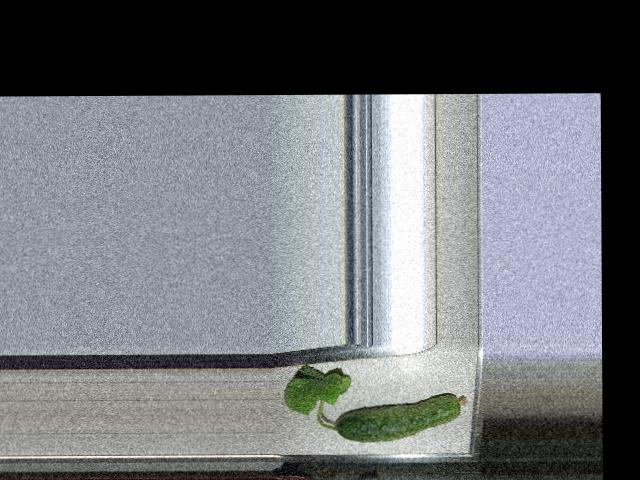cucumber: (334, 393, 467, 442)
